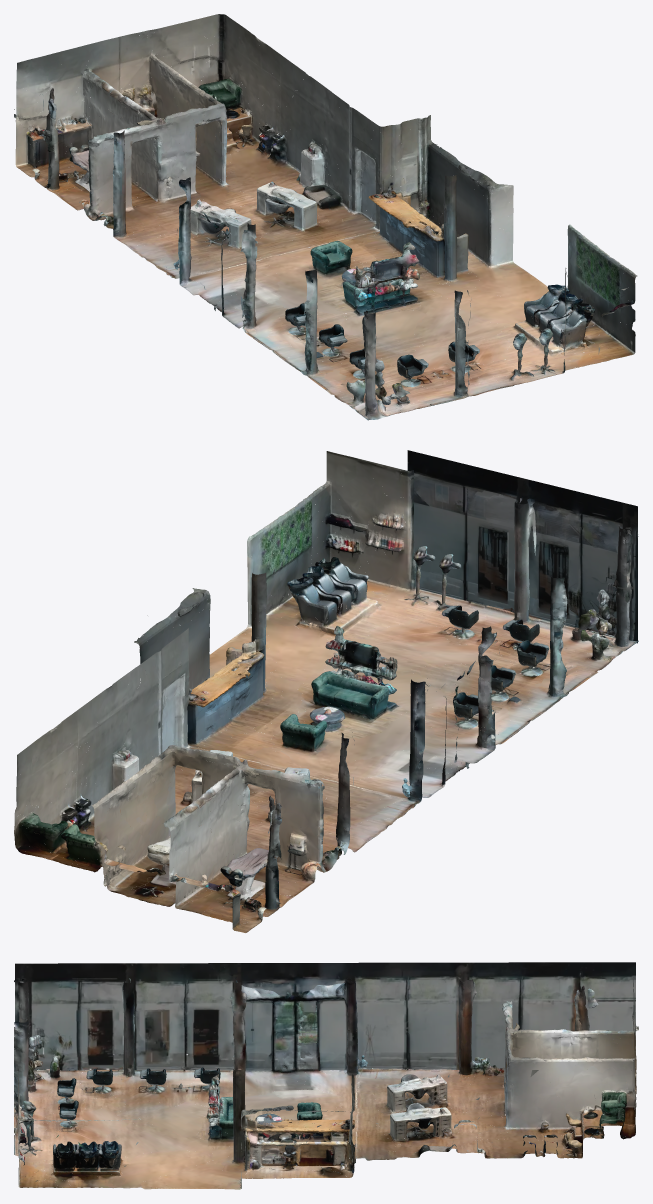
Rendered from jmb.glb.
3 renders of one model, top to bottom at view 1: azimuth 30°, elevation 25°; view 2: azimuth 150°, elevation 25°; view 3: azimuth 270°, elevation 25°, orthographic. The views are drawn at different scales.
Parts seen in each view (by area): view 1: node2_primitive4, node2_primitive3, node2_primitive5, node2_primitive8, node2_primitive10, node2_primitive9, node2_primitive7, node2_primitive6, node2_primitive12, node2_primitive11, node2_primitive13, node2_primitive14; view 2: node2_primitive4, node2_primitive3, node2_primitive1, node2_primitive5, node2_primitive8, node2_primitive10, node2_primitive6, node2_primitive7, node2_primitive9, node2_primitive11, node2_primitive12, node2_primitive13 (+1 smaller); view 3: node2_primitive2, node2_primitive4, node2_primitive3, node2_primitive8, node2_primitive5, node2_primitive11, node2_primitive10, node2_primitive7, node2_primitive6, node2_primitive9, node2_primitive12, node2_primitive13 (+2 smaller).
Boxes of the visible parts, <box> form: node2_primitive4: <box>18,14,629,419</box>; node2_primitive3: <box>15,14,635,410</box>; node2_primitive5: <box>16,24,635,416</box>; node2_primitive8: <box>16,37,637,420</box>; node2_primitive10: <box>15,28,636,406</box>; node2_primitive9: <box>16,22,635,419</box>; node2_primitive7: <box>32,51,606,411</box>; node2_primitive6: <box>28,24,627,417</box>; node2_primitive12: <box>16,86,604,415</box>; node2_primitive11: <box>14,34,594,413</box>; node2_primitive13: <box>14,62,635,412</box>; node2_primitive14: <box>15,77,621,416</box>; node2_primitive4: <box>14,496,638,914</box>; node2_primitive3: <box>16,463,631,932</box>; node2_primitive1: <box>407,450,637,643</box>; node2_primitive5: <box>14,503,618,906</box>; node2_primitive8: <box>43,482,638,914</box>; node2_primitive10: <box>49,451,628,923</box>; node2_primitive6: <box>14,497,631,900</box>; node2_primitive7: <box>39,526,627,915</box>; node2_primitive9: <box>54,505,634,906</box>; node2_primitive11: <box>22,469,622,916</box>; node2_primitive12: <box>18,498,632,909</box>; node2_primitive13: <box>39,460,625,908</box>; node2_primitive2: <box>15,962,635,1070</box>; node2_primitive4: <box>14,977,637,1189</box>; node2_primitive3: <box>14,980,636,1189</box>; node2_primitive8: <box>14,978,634,1175</box>; node2_primitive5: <box>14,980,635,1189</box>; node2_primitive11: <box>14,978,636,1163</box>; node2_primitive10: <box>14,986,637,1186</box>; node2_primitive7: <box>20,988,636,1187</box>; node2_primitive6: <box>18,979,636,1188</box>; node2_primitive9: <box>15,980,635,1164</box>; node2_primitive12: <box>14,980,638,1180</box>; node2_primitive13: <box>14,978,638,1171</box>.
Bounding box in the file's own units: 9.3 × 3.97 × 20.54.
19 materials, 19 textured.
